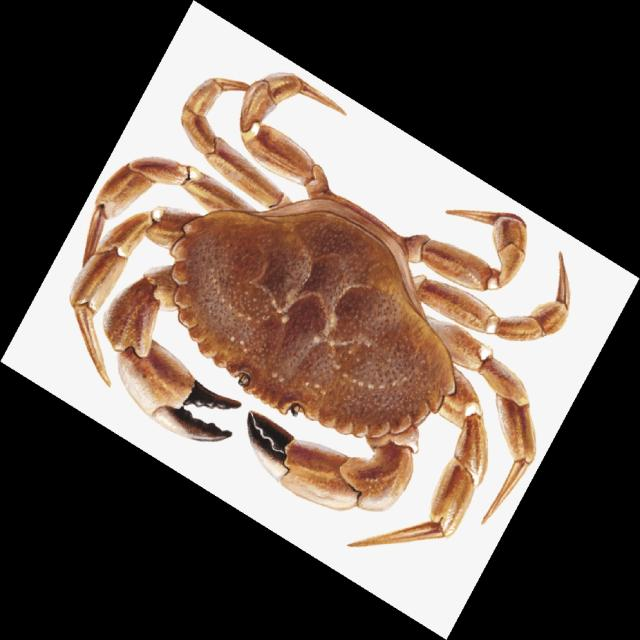Native Jonah crab: (70, 74, 570, 547)
